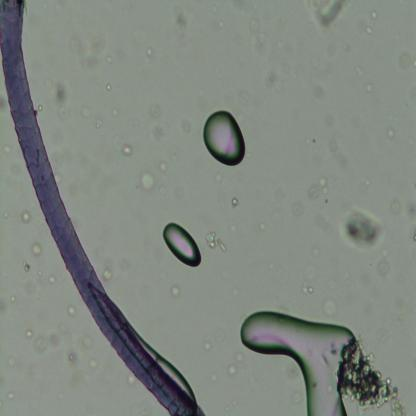Air bubble: (240, 306, 354, 416), (202, 107, 247, 168), (162, 218, 204, 270)
Background material: (340, 343, 410, 414), (344, 204, 384, 251), (69, 29, 106, 72), (242, 17, 271, 58), (306, 0, 347, 25), (174, 2, 195, 43), (310, 172, 330, 203), (326, 140, 348, 167), (205, 230, 229, 252), (266, 72, 288, 94), (402, 195, 416, 225), (56, 78, 72, 104), (63, 344, 79, 368), (322, 295, 338, 318), (390, 192, 404, 218), (16, 206, 32, 228), (378, 247, 390, 276), (397, 52, 416, 70), (45, 331, 63, 350), (149, 120, 165, 141), (305, 258, 320, 280), (301, 278, 318, 297), (140, 172, 156, 192), (138, 45, 156, 62), (312, 82, 328, 101), (148, 102, 164, 121), (291, 197, 306, 217), (36, 333, 48, 356), (66, 298, 79, 319), (322, 112, 336, 129), (79, 99, 91, 118), (58, 106, 72, 122), (100, 264, 112, 282), (31, 240, 42, 258), (120, 142, 133, 157), (202, 338, 214, 354), (228, 192, 238, 211), (5, 354, 18, 368), (226, 221, 238, 236), (127, 372, 137, 389), (387, 124, 397, 140), (170, 284, 181, 298), (292, 391, 303, 405), (93, 115, 104, 129), (233, 350, 243, 365), (256, 219, 268, 231), (363, 82, 375, 94), (109, 106, 120, 119), (212, 170, 222, 184), (89, 357, 99, 371), (23, 328, 33, 341), (228, 364, 238, 377), (158, 183, 168, 196), (217, 326, 225, 342), (159, 158, 168, 172), (354, 69, 364, 81), (6, 389, 16, 401), (48, 273, 56, 288), (363, 26, 372, 39), (104, 52, 113, 65), (23, 259, 31, 273), (209, 372, 218, 384), (0, 94, 6, 112), (310, 246, 318, 258), (104, 80, 112, 92), (2, 209, 10, 220), (5, 144, 12, 156), (370, 10, 378, 20), (36, 104, 44, 112), (365, 177, 371, 187), (10, 294, 17, 302), (412, 228, 416, 240), (37, 269, 43, 277)
Hair textile: (0, 0, 205, 414)
